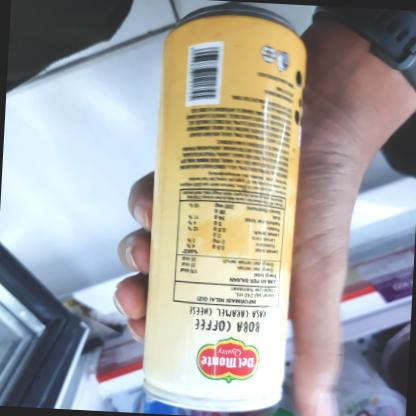alumunium_can: (124, 0, 329, 416)
